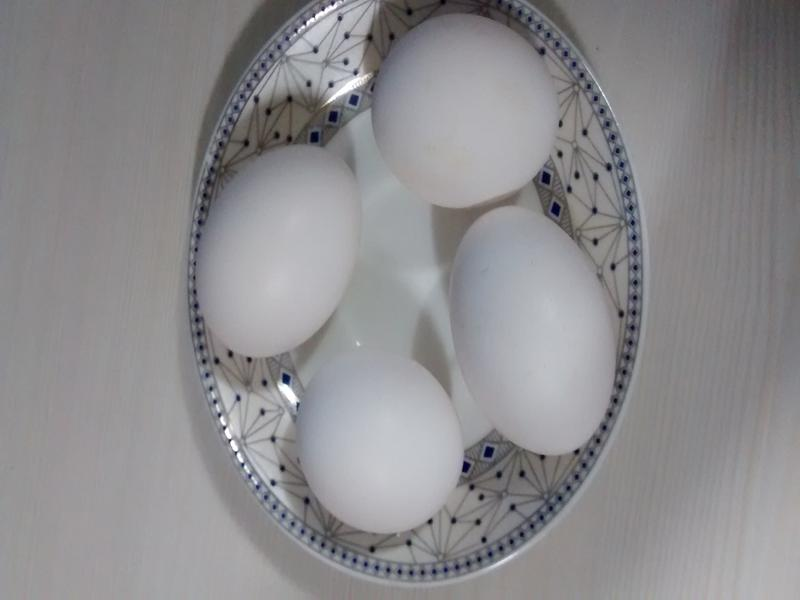egg: (299, 351, 464, 542)
